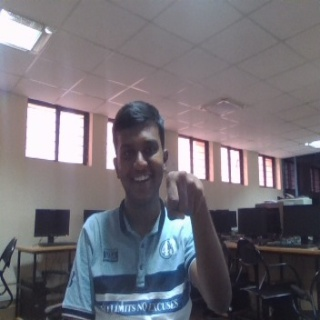Yes: (164, 169, 210, 225)
